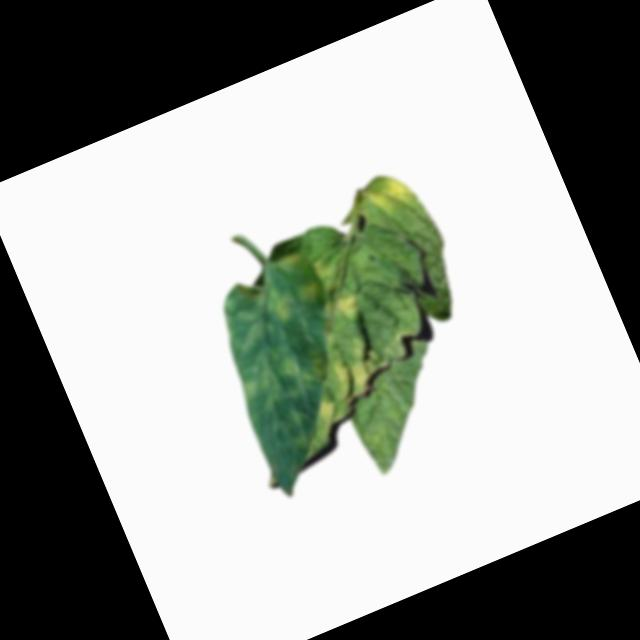Leaf_Mold: (234, 341, 337, 421), (211, 279, 272, 358), (327, 335, 386, 399), (364, 169, 418, 221), (261, 279, 302, 328), (329, 285, 374, 329), (279, 242, 311, 270), (314, 394, 342, 424), (298, 275, 326, 305)
